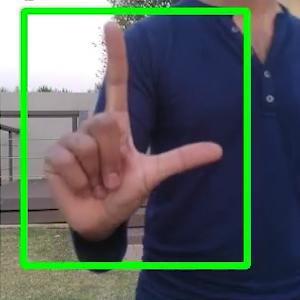land_hand: (36, 10, 234, 246)
